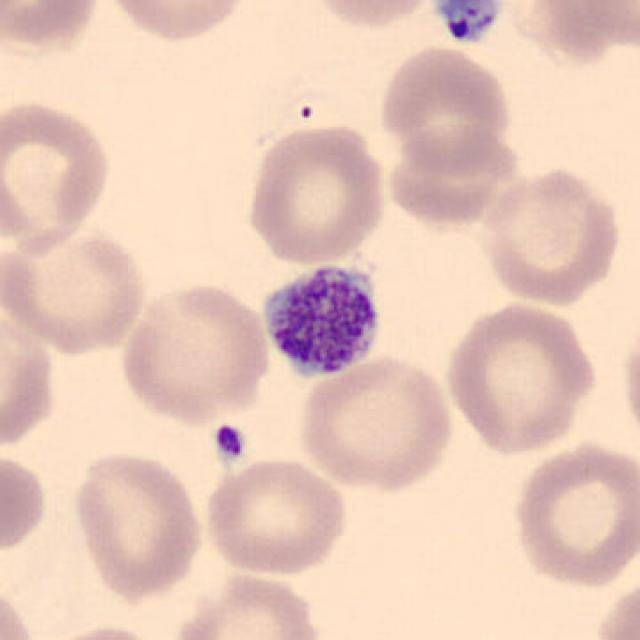Platelets: (252, 256, 390, 384), (430, 0, 507, 46), (210, 420, 249, 466)
RBC: (441, 298, 601, 458), (115, 276, 274, 426), (293, 351, 457, 494), (242, 118, 391, 268), (68, 446, 208, 603), (476, 162, 626, 307), (507, 438, 638, 592), (2, 224, 151, 356), (199, 455, 352, 578), (0, 95, 116, 256), (375, 42, 516, 173), (380, 120, 524, 229), (167, 569, 327, 640), (521, 0, 640, 62), (98, 0, 252, 44), (0, 0, 105, 56), (0, 448, 50, 560), (302, 0, 441, 32), (590, 571, 638, 640), (618, 315, 640, 456), (0, 578, 41, 640), (35, 622, 169, 640)
